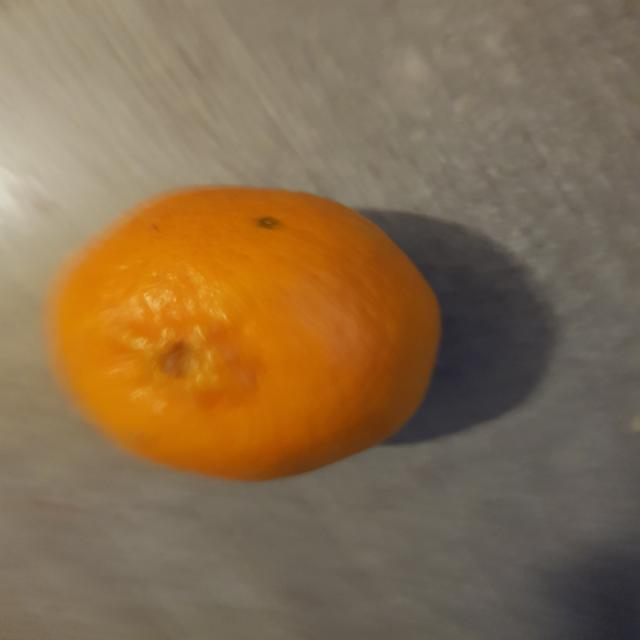Orange: (42, 185, 444, 484)
